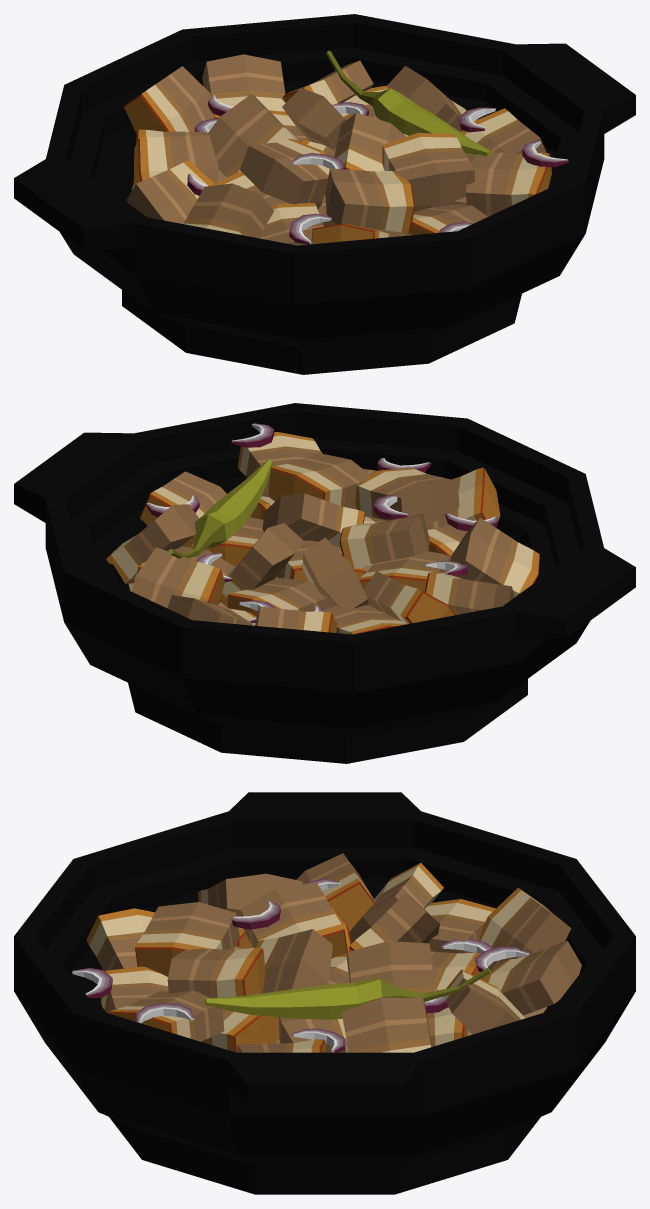
Rendered from FINAL_Adobo sa Gata.fbx.
3 views of the same model, one above another, from view 1: azimuth 30°, elevation 25°; view 2: azimuth 150°, elevation 25°; view 3: azimuth 270°, elevation 25° (orthographic). The views are drawn at different scales.
Parts seen in each view (by area): view 1: Adobo sa Gata; view 2: Adobo sa Gata; view 3: Adobo sa Gata.
Part boxes in pixels (x1=…): Adobo sa Gata: x1=14, y1=14, x2=635, y2=374; Adobo sa Gata: x1=14, y1=403, x2=635, y2=763; Adobo sa Gata: x1=14, y1=792, x2=635, y2=1194.
Size of the model in its own units: 128 by 39.02 by 115.
